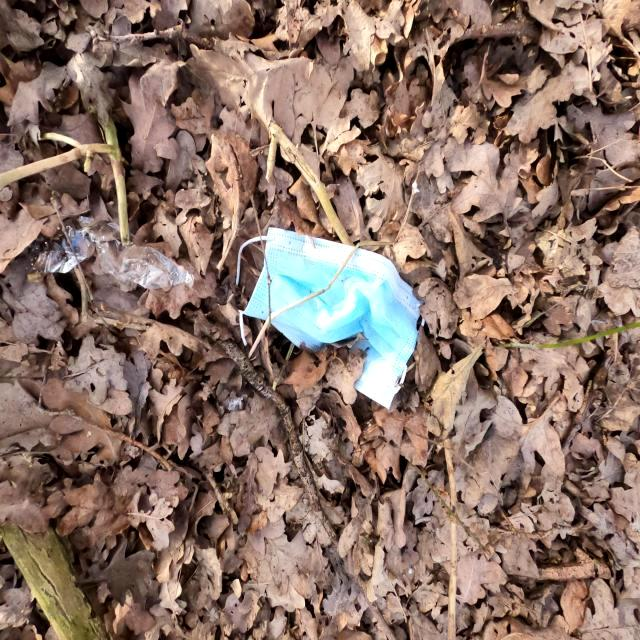Mask: (254, 225, 426, 403)
